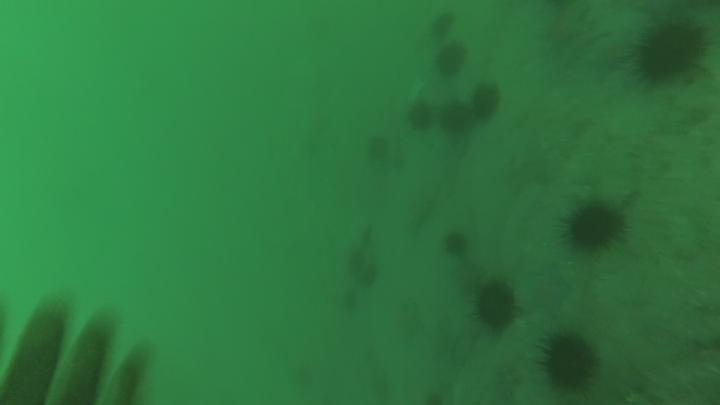echinus: (626, 12, 720, 100), (557, 188, 634, 263), (535, 329, 605, 398), (462, 269, 528, 340), (469, 79, 506, 122), (433, 40, 471, 79), (437, 96, 474, 133), (405, 96, 438, 131), (445, 231, 472, 262), (365, 136, 390, 164)
starfish: (529, 8, 596, 57)
